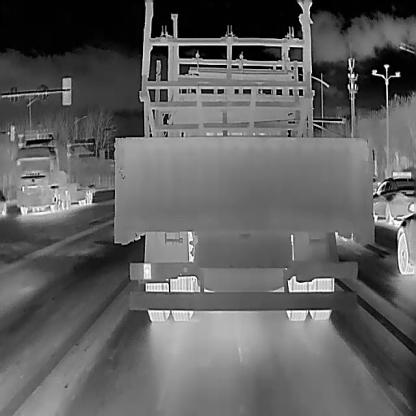car: (370, 168, 416, 224)
truck: (112, 55, 375, 320), (14, 137, 94, 214)
